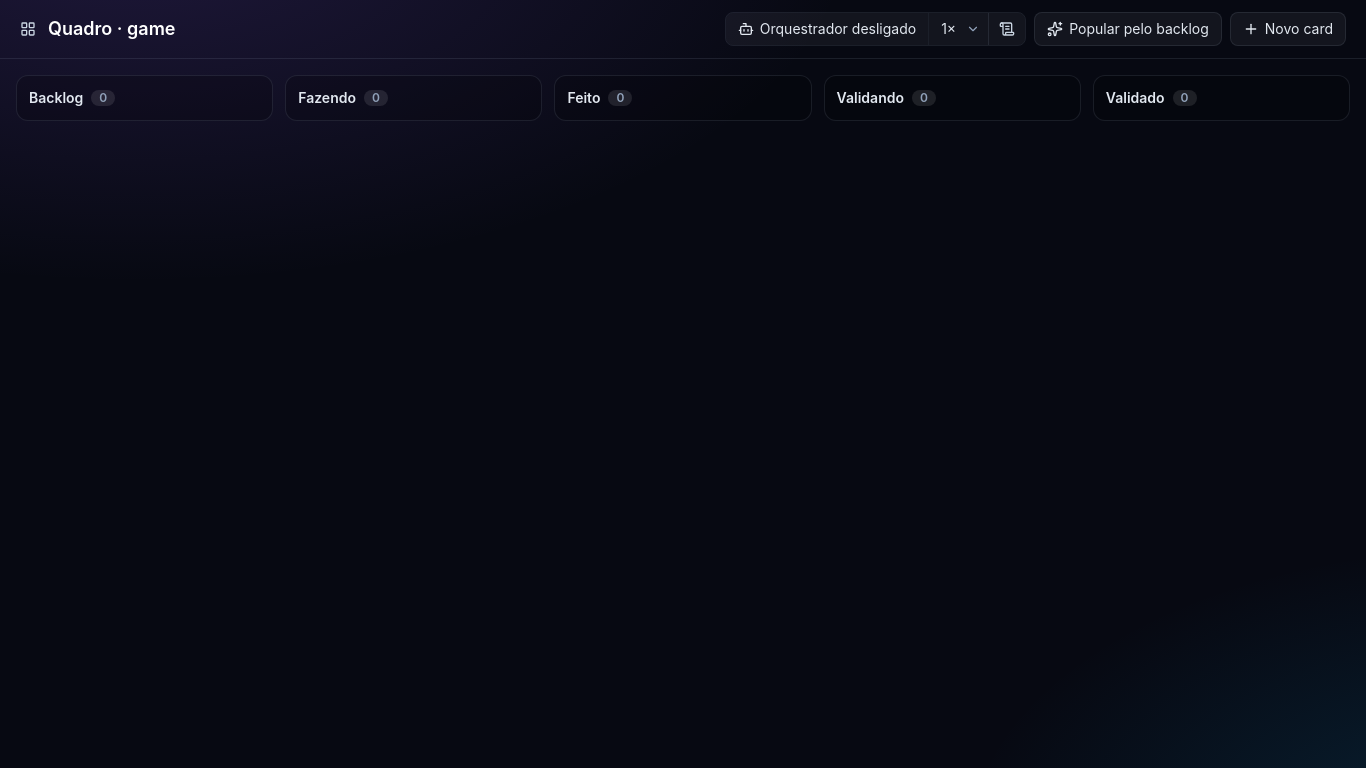
Test: KanbanBoard › sem login do Claude no perfil, não abre a sessão e mostra o comando de login
Click the button "Popular pelo backlog": x=1128, y=29 [1034,12,1222,46]
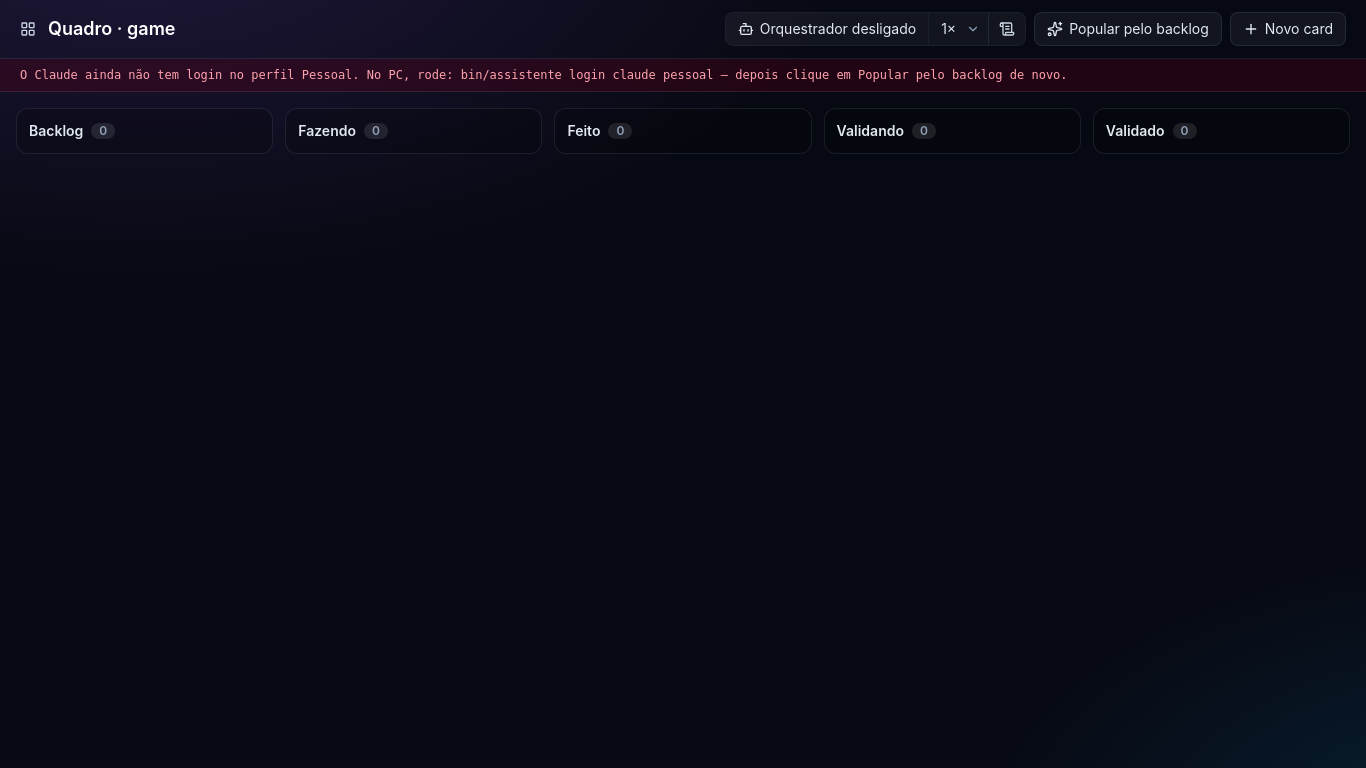
Expected: the text "ainda não tem login no perfil Pessoal" is shown, [20,68,1068,82]
